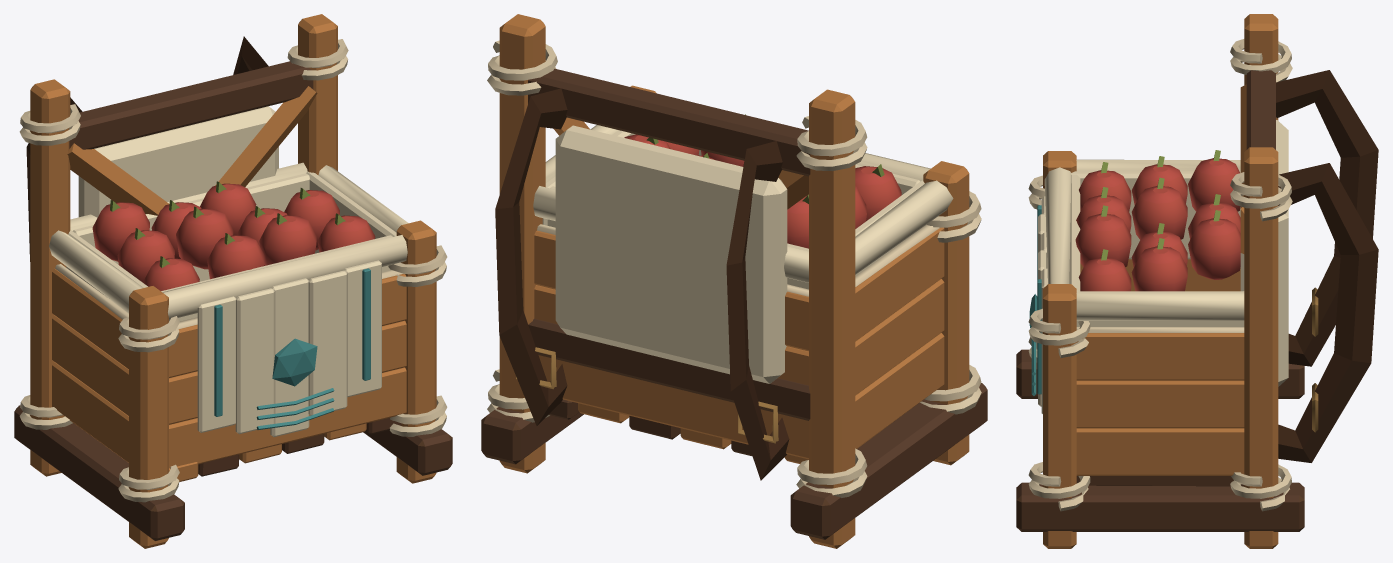
File: prop_trade_pack_tomato_a.glb
3 views of the same model, side by side, from view 1: azimuth 30°, elevation 25°; view 2: azimuth 150°, elevation 25°; view 3: azimuth 270°, elevation 25° (orthographic). The views are drawn at different scales.
Parts seen in each view (by area): view 1: prop_trade_pack_tomato_a_LOD0; view 2: prop_trade_pack_tomato_a_LOD0; view 3: prop_trade_pack_tomato_a_LOD0.
Boxes of the visible parts, <box> form: prop_trade_pack_tomato_a_LOD0: <box>14,14,452,548</box>; prop_trade_pack_tomato_a_LOD0: <box>481,14,987,548</box>; prop_trade_pack_tomato_a_LOD0: <box>1016,14,1378,548</box>.
Size of what is drawn, in the model's own units: 0.8384 by 0.96 by 0.8041.
